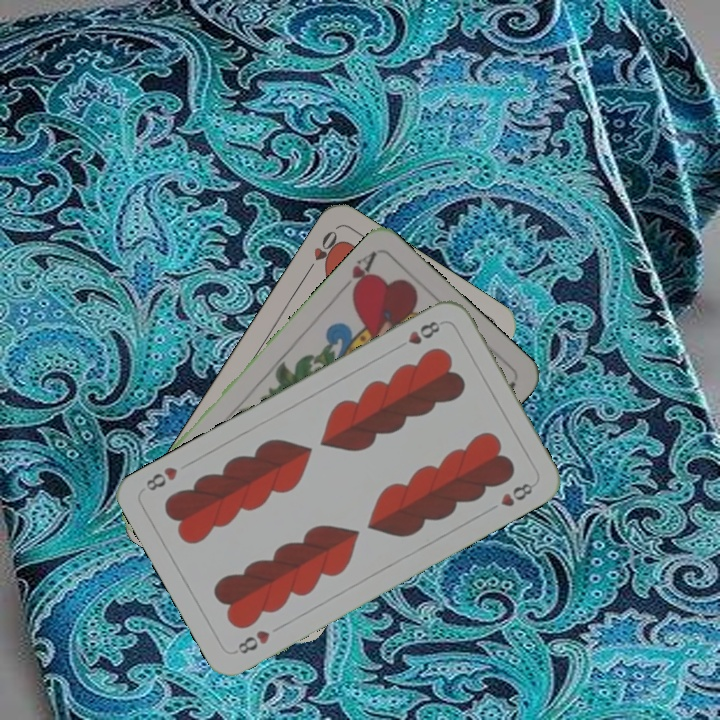H8: (392, 317, 443, 353), (230, 626, 273, 657)
HA: (335, 247, 379, 299)
HO: (301, 226, 344, 278)
